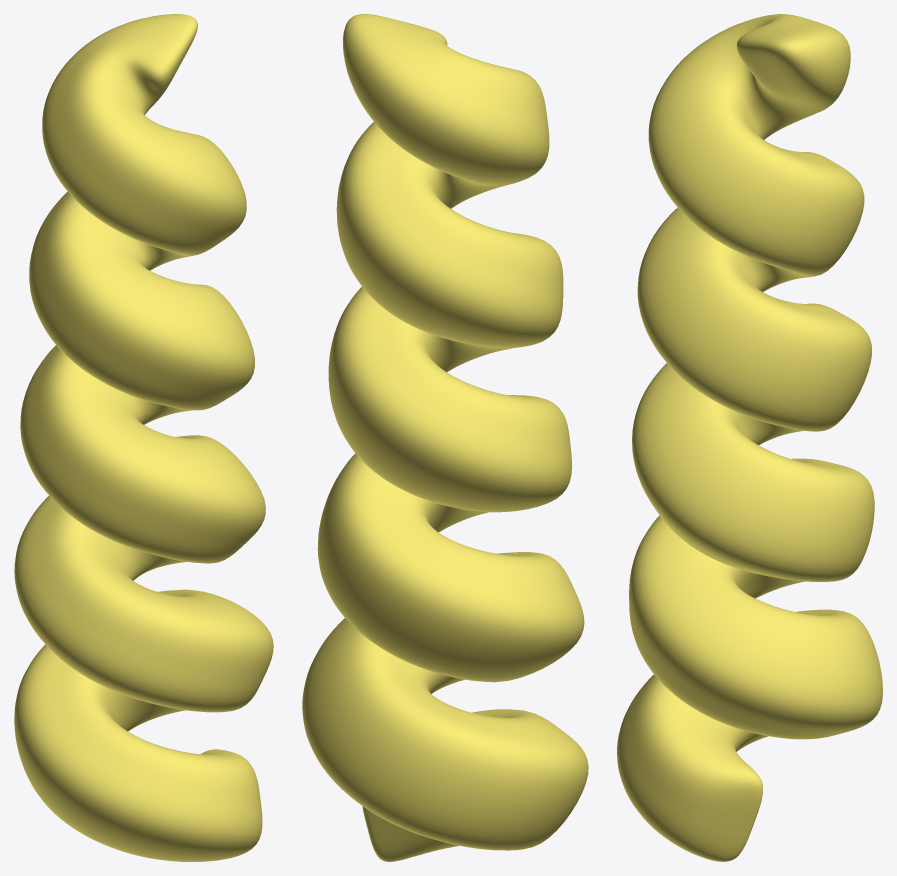
File: Fusili.003.gltf
3 views of the same model, side by side, from view 1: azimuth 30°, elevation 25°; view 2: azimuth 150°, elevation 25°; view 3: azimuth 270°, elevation 25° (orthographic). The views are drawn at different scales.
Parts seen in each view (by area): view 1: Fusili.003; view 2: Fusili.003; view 3: Fusili.003.
Part boxes in pixels (x1,y1,x2,y2): Fusili.003: (14,14,273,861); Fusili.003: (302,14,588,861); Fusili.003: (617,14,882,861).
Size of the model in its own units: 3.52 by 11.9 by 3.51.
